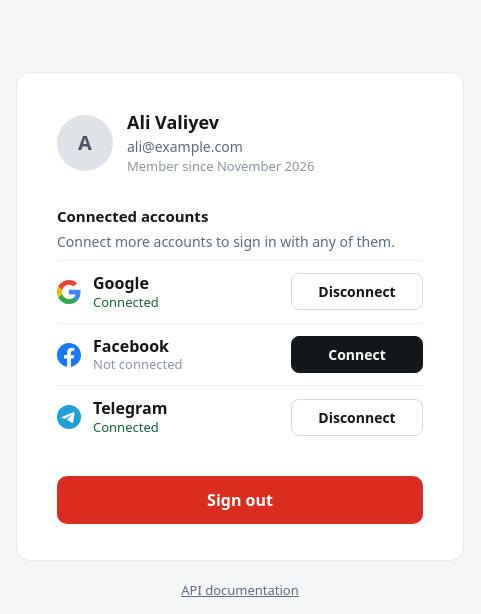
signed in › shows the server reason when disconnecting fails
Click the button with aria-label "Disconnect Telegram" at (357, 417), box [291,399,423,436]
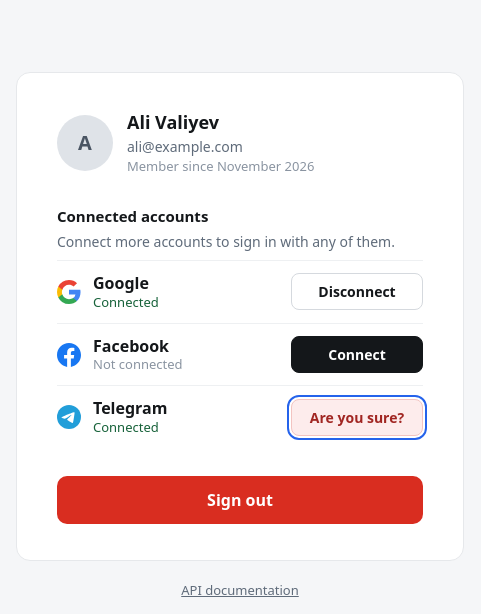
Click the button with aria-label "Disconnect Telegram" at (357, 417), box [291,399,423,436]
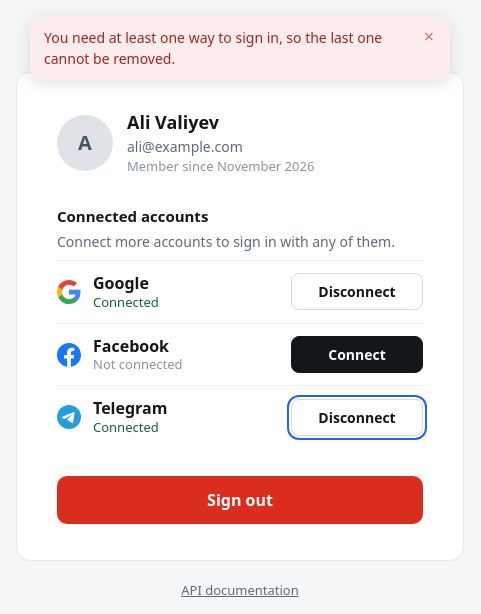
Expected: the text "You need at least one way to sign in, so the last one cannot be removed." is shown, [44,27,412,69]
